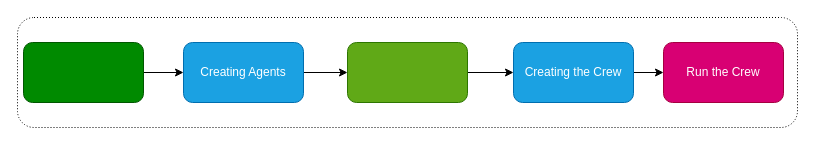
Some shapes in this 815 by 145 pixel diagram are drawn without their labels. The shapes that lost their labels are listed below. From the top down, each one's box as (x1, y1, x2, y2) in pixels, then its label:
(22, 42, 144, 102): Initialize the LLM
(346, 42, 468, 102): Creating Tasks
